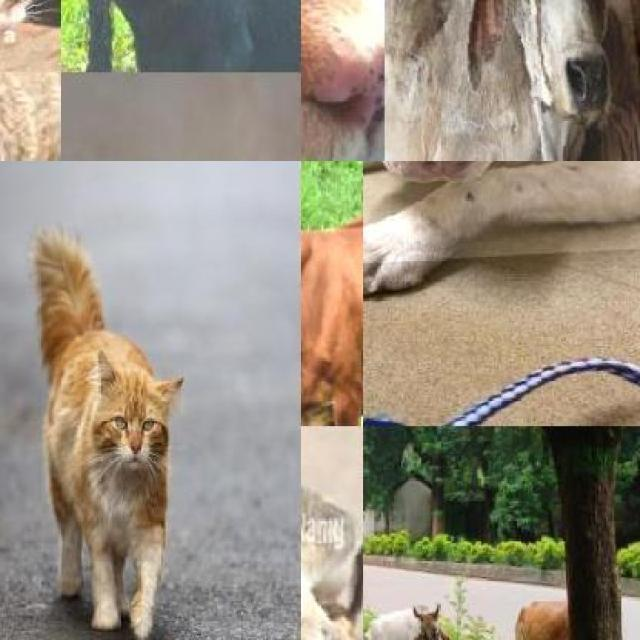buffalo: (60, 0, 300, 72)
cat: (23, 215, 177, 640), (300, 0, 385, 160)
cow: (384, 0, 640, 160), (300, 219, 363, 426), (363, 581, 460, 640)
dog: (363, 160, 640, 268)
